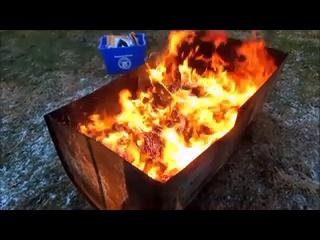fire: (95, 31, 272, 182)
